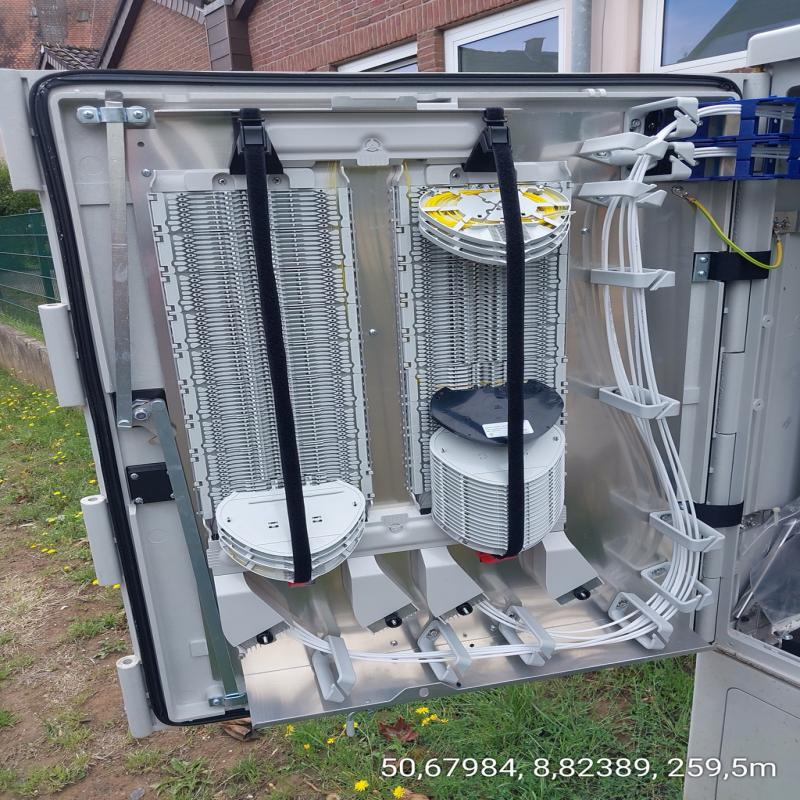NT-Gehause: (20, 28, 800, 800)
Spleiskassetten: (146, 162, 375, 590), (386, 157, 566, 565)
